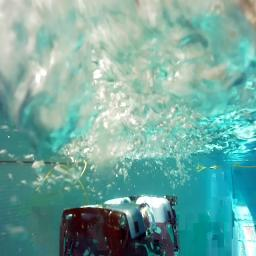Side: (59, 195, 180, 256)
